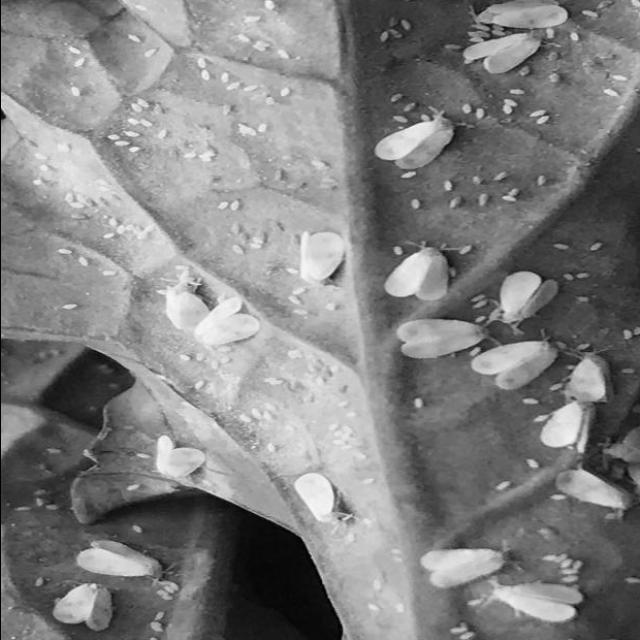Whitefly: (369, 230, 640, 532), (421, 539, 606, 628), (41, 526, 183, 640), (456, 0, 570, 86), (158, 273, 264, 365), (345, 114, 487, 180), (141, 424, 221, 486), (294, 214, 348, 296), (288, 462, 354, 528)
